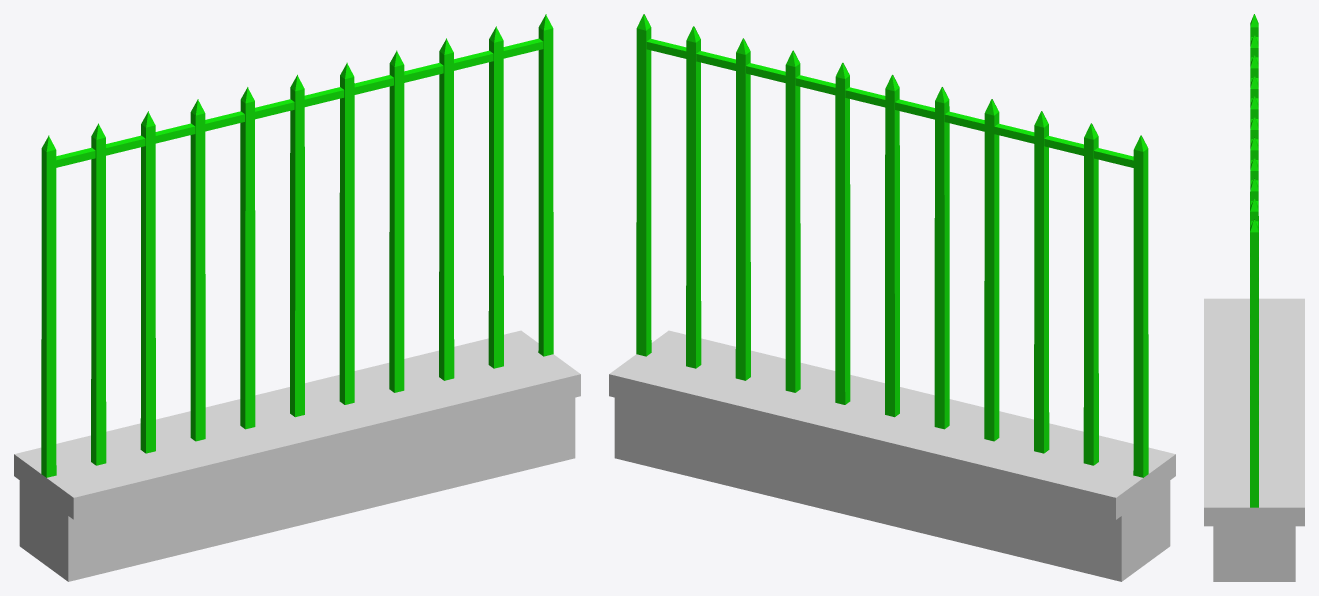
The model's file is MetalFence.fbx.
3 views of the same model, side by side, from view 1: azimuth 30°, elevation 25°; view 2: azimuth 150°, elevation 25°; view 3: azimuth 270°, elevation 25° (orthographic). The views are drawn at different scales.
Visible parts, largest first — view 1: Object_8.001; view 2: Object_8.001; view 3: Object_8.001.
Boxes of the visible parts, x1=… form: Object_8.001: x1=14, y1=14, x2=580, y2=581; Object_8.001: x1=609, y1=14, x2=1175, y2=581; Object_8.001: x1=1204, y1=14, x2=1304, y2=581.
Size of the model in its own units: 0.612 by 3 by 2.42.
